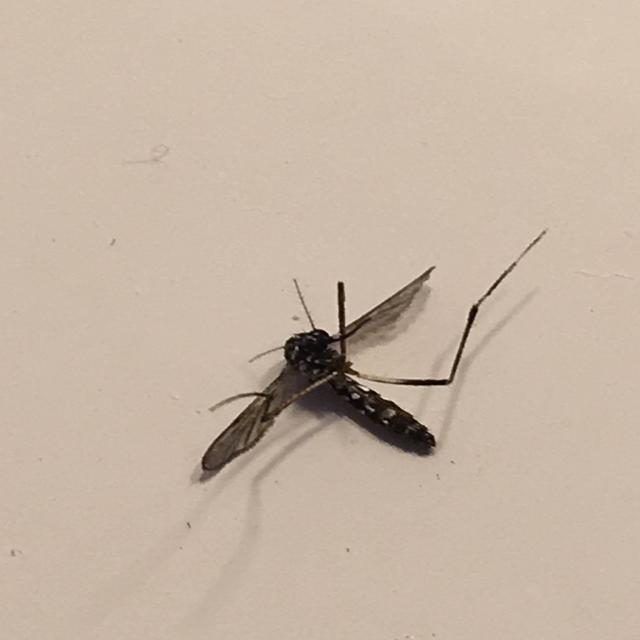albopictus: (189, 233, 524, 483)
